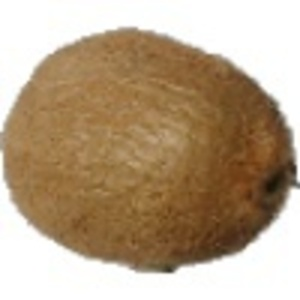kiwi: (1, 23, 300, 276)
